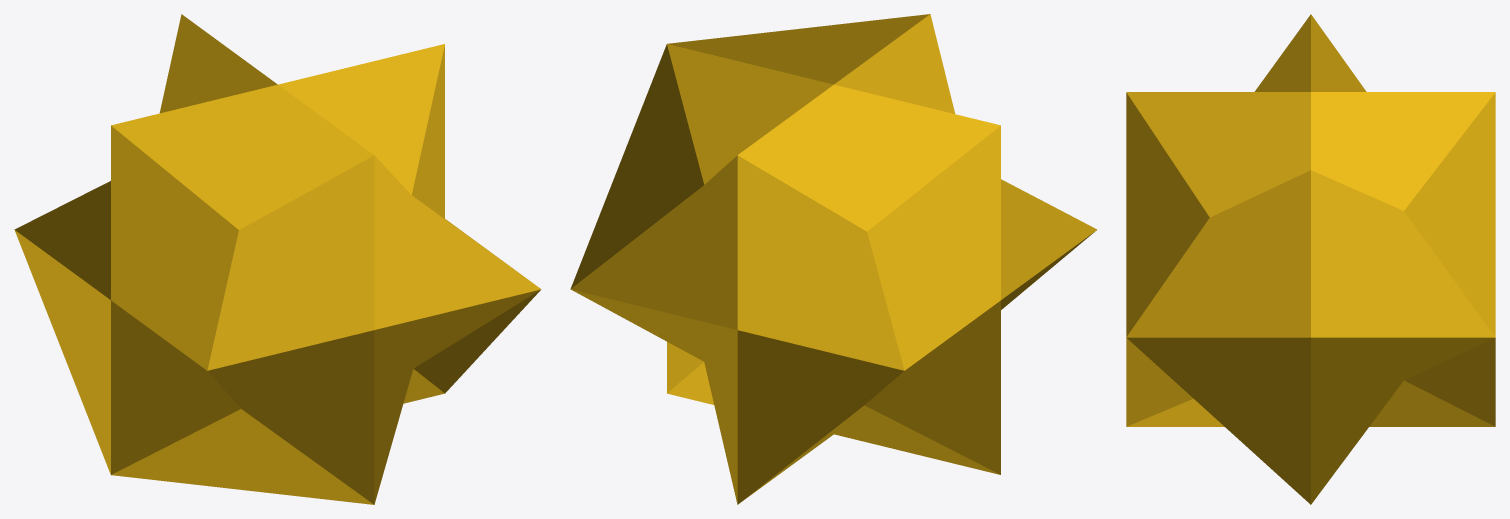
File: Weird Ore.glb
3 renders of one model, left to right at view 1: azimuth 30°, elevation 25°; view 2: azimuth 150°, elevation 25°; view 3: azimuth 270°, elevation 25°, orthographic. The views are drawn at different scales.
Visible parts, largest first — view 1: goldore; view 2: goldore; view 3: goldore.
Part boxes in pixels (x1=…): goldore: x1=14, y1=14, x2=541, y2=504; goldore: x1=570, y1=14, x2=1097, y2=504; goldore: x1=1126, y1=14, x2=1495, y2=504.
Size of what is drawn, in the model's own units: 0.5 by 0.5 by 0.5.
